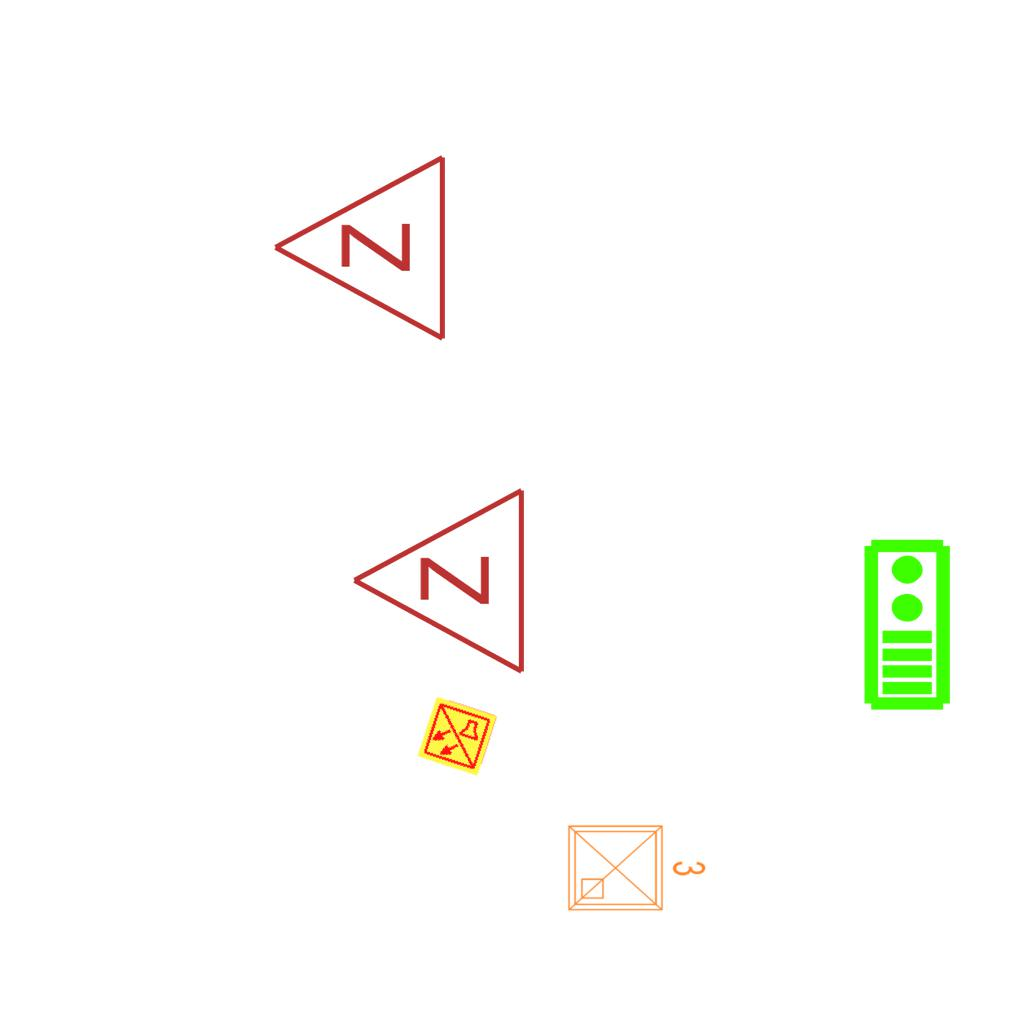Einbaudownlights_LED_Konferenzraeume: (561, 814, 711, 918)
Gegensprechanlage_mit_Video: (858, 536, 953, 712)
OKW_Multisensormelder_(Kombination_optischer_Rauch-Kahlenmonoxid_Waerme-Melder): (415, 694, 499, 778)
Zimmersignalleuchte: (260, 152, 460, 348), (339, 485, 539, 681)
